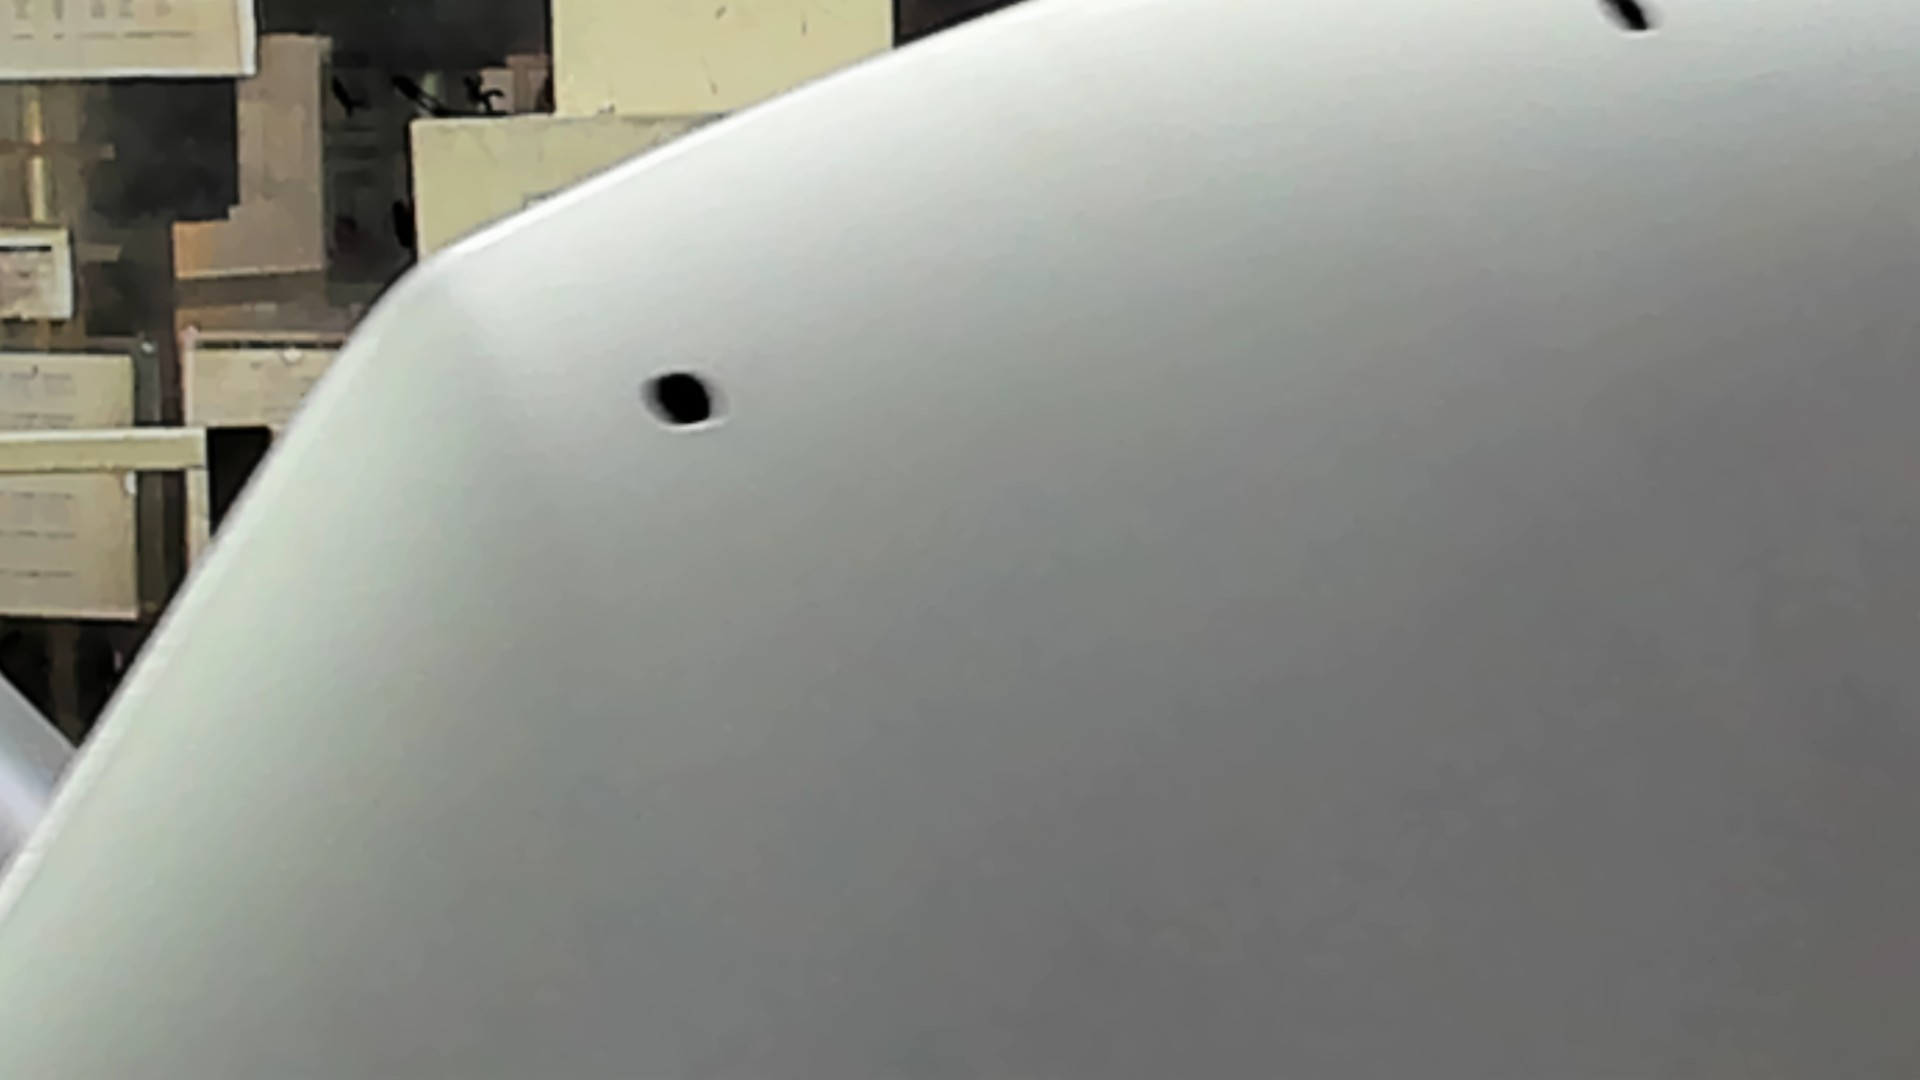amorfo: (636, 363, 729, 435), (1597, 1, 1665, 50)
